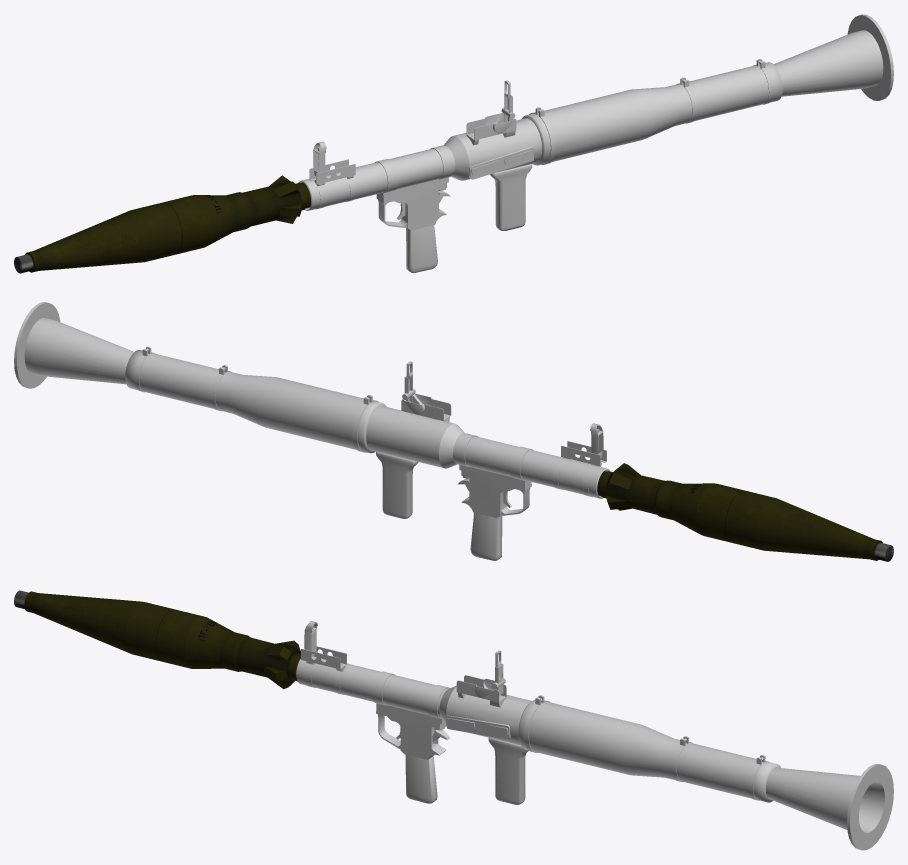
File: Rpg-7.FBX
3 renders of one model, top to bottom at view 1: azimuth 30°, elevation 25°; view 2: azimuth 150°, elevation 25°; view 3: azimuth 330°, elevation 25°, orthographic.
Parts seen in each view (by area): view 1: Cylinder01, Cylinder02; view 2: Cylinder01, Cylinder02; view 3: Cylinder01, Cylinder02.
Part boxes in pixels (left/top/right/bottom): Cylinder01: left=298, top=14, right=893, bottom=273; Cylinder02: left=14, top=175, right=311, bottom=273; Cylinder01: left=14, top=302, right=610, bottom=560; Cylinder02: left=597, top=463, right=893, bottom=561; Cylinder01: left=296, top=621, right=893, bottom=850; Cylinder02: left=14, top=590, right=300, bottom=689.
Size of the model in its own units: 206 by 39.62 by 18.44.
